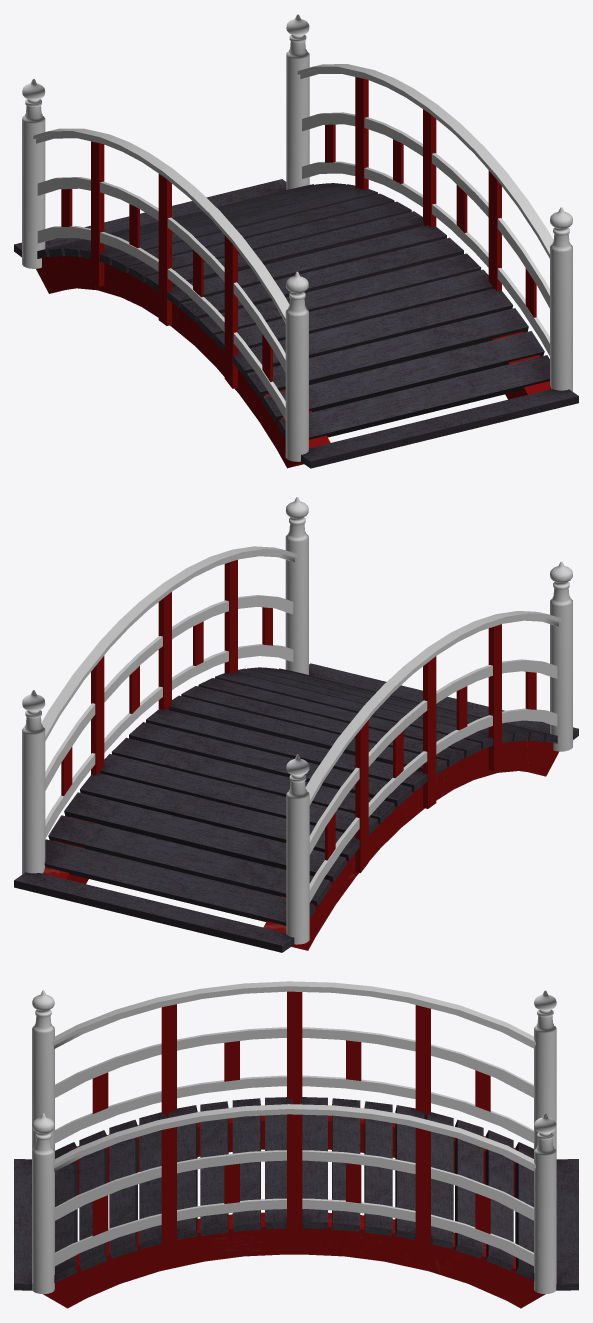
File: bridge.fbx
3 views of the same model, one above another, from view 1: azimuth 30°, elevation 25°; view 2: azimuth 150°, elevation 25°; view 3: azimuth 270°, elevation 25° (orthographic). The views are drawn at different scales.
Visible parts, largest first — view 1: Bridge2, Bridge2.004, Bridge2.003, Bridge2.001, Bridge2.002; view 2: Bridge2, Bridge2.004, Bridge2.003, Bridge2.001, Bridge2.002; view 3: Bridge2, Bridge2.004, Bridge2.001, Bridge2.002, Bridge2.003.
Part boxes in pixels (box(x1,y1,x2,y2)): Bridge2: box(14, 179, 578, 468); Bridge2.004: box(33, 64, 553, 420); Bridge2.003: box(22, 14, 572, 461); Bridge2.001: box(61, 77, 536, 388); Bridge2.002: box(36, 256, 551, 468); Bridge2: box(14, 663, 578, 952); Bridge2.004: box(41, 546, 561, 902); Bridge2.003: box(22, 497, 572, 944); Bridge2.001: box(61, 559, 536, 872); Bridge2.002: box(42, 740, 558, 950); Bridge2: box(14, 1097, 578, 1290); Bridge2.004: box(53, 981, 535, 1266); Bridge2.001: box(92, 991, 490, 1268); Bridge2.002: box(43, 1115, 545, 1308); Bridge2.003: box(32, 990, 556, 1293).
Size of the model in its own units: 111 by 79.39 by 200.
